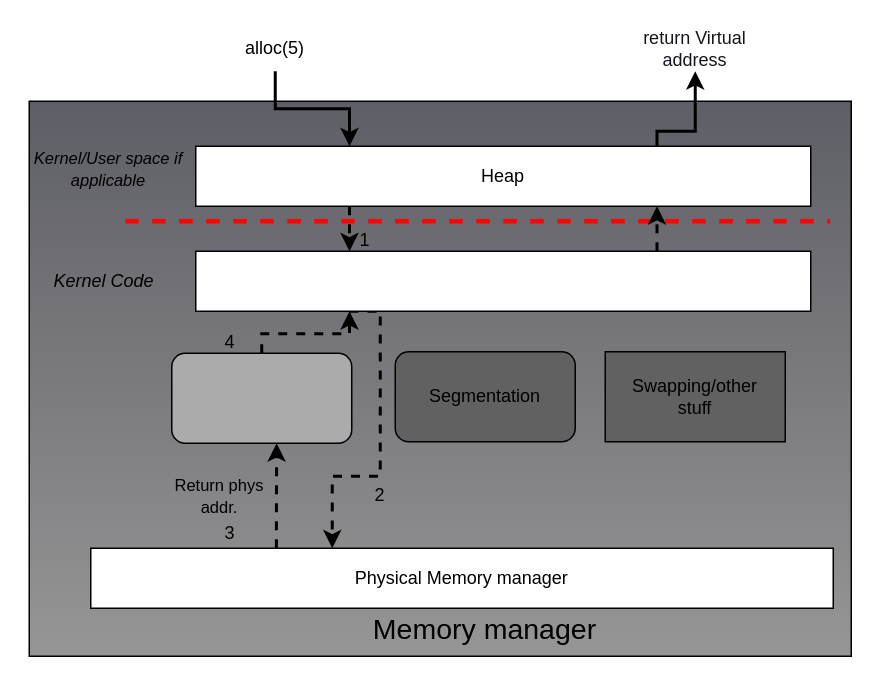
The diagram is 878 pixels wide and 683 high, and some of its shapes have lost their labels. The box of each missing label's shape, as (x1, y1, x2, y2) in pixels:
Paging: (170, 352, 352, 443)
VMM: (194, 250, 811, 311)
